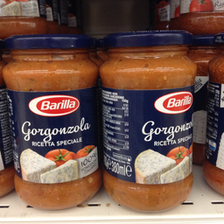tomato_sauce: (99, 32, 197, 214), (2, 35, 100, 212)
